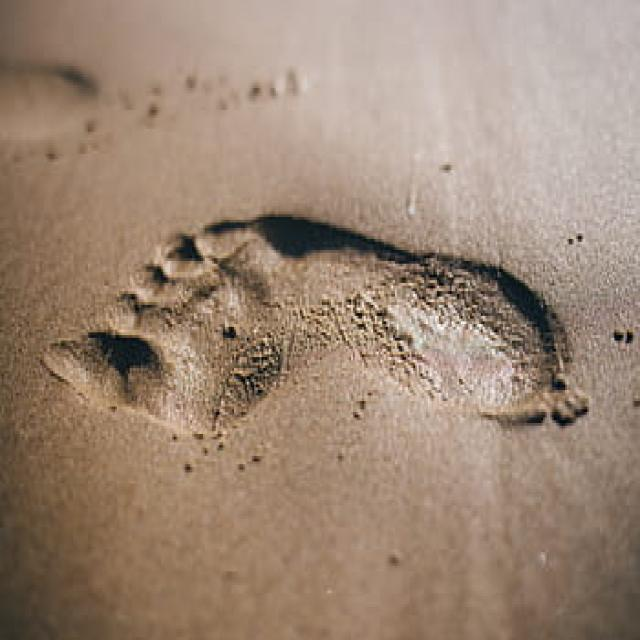human_foot_print: (38, 209, 593, 474)
